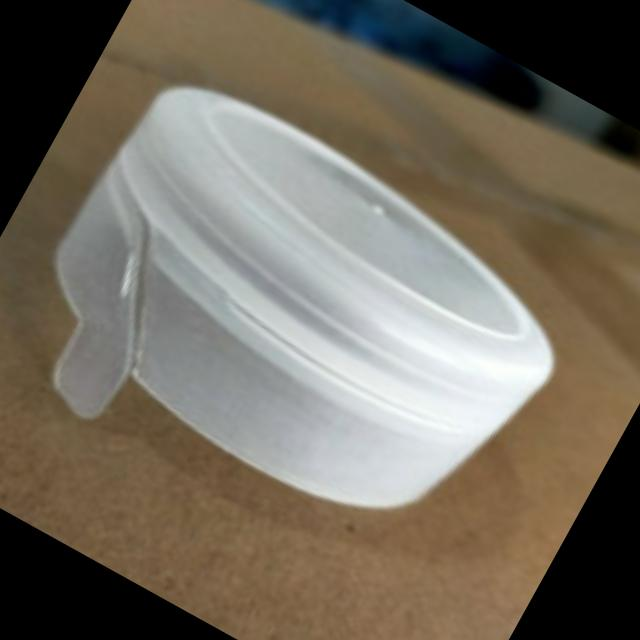TutupGalon: (0, 47, 600, 607)
